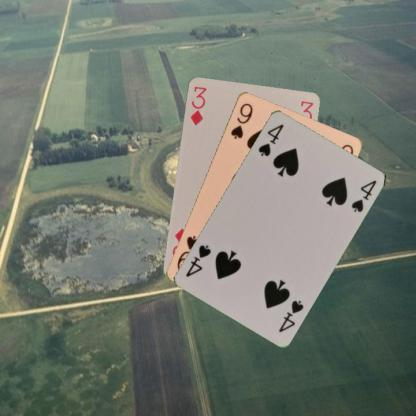3d: (187, 84, 208, 126)
4s: (255, 121, 285, 157), (275, 297, 304, 333)
9s: (228, 100, 254, 140)
